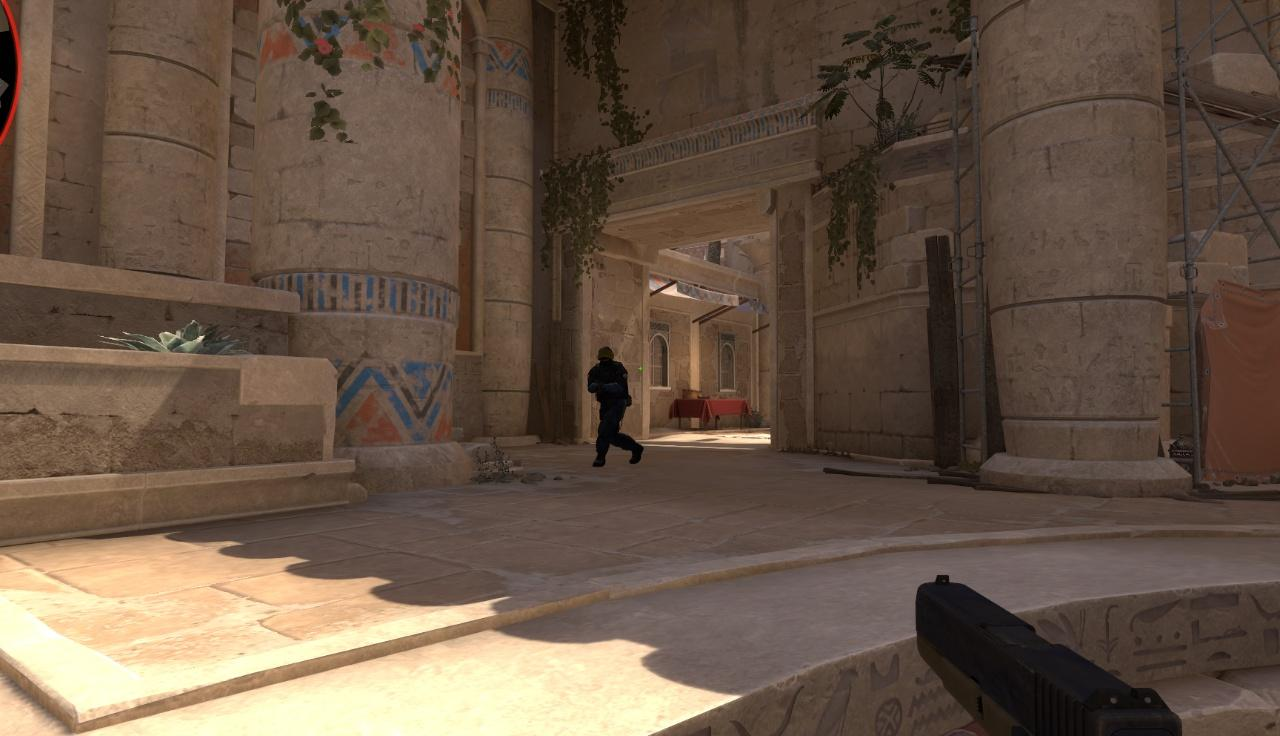ct: (590, 346, 645, 464)
cthead: (596, 346, 614, 369)
pistol: (908, 572, 1179, 733)
